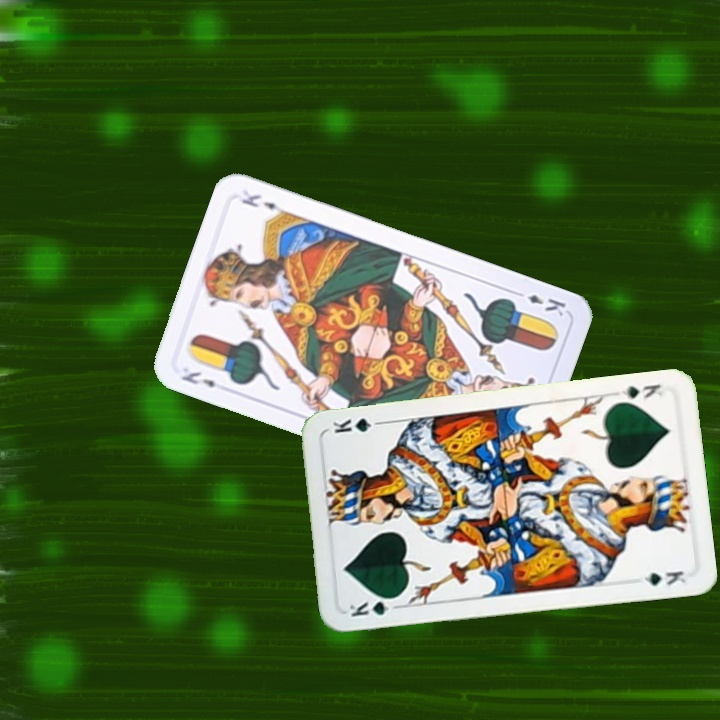EK: (511, 287, 569, 319), (177, 367, 218, 390)
GK: (345, 593, 403, 620), (618, 380, 666, 402)
